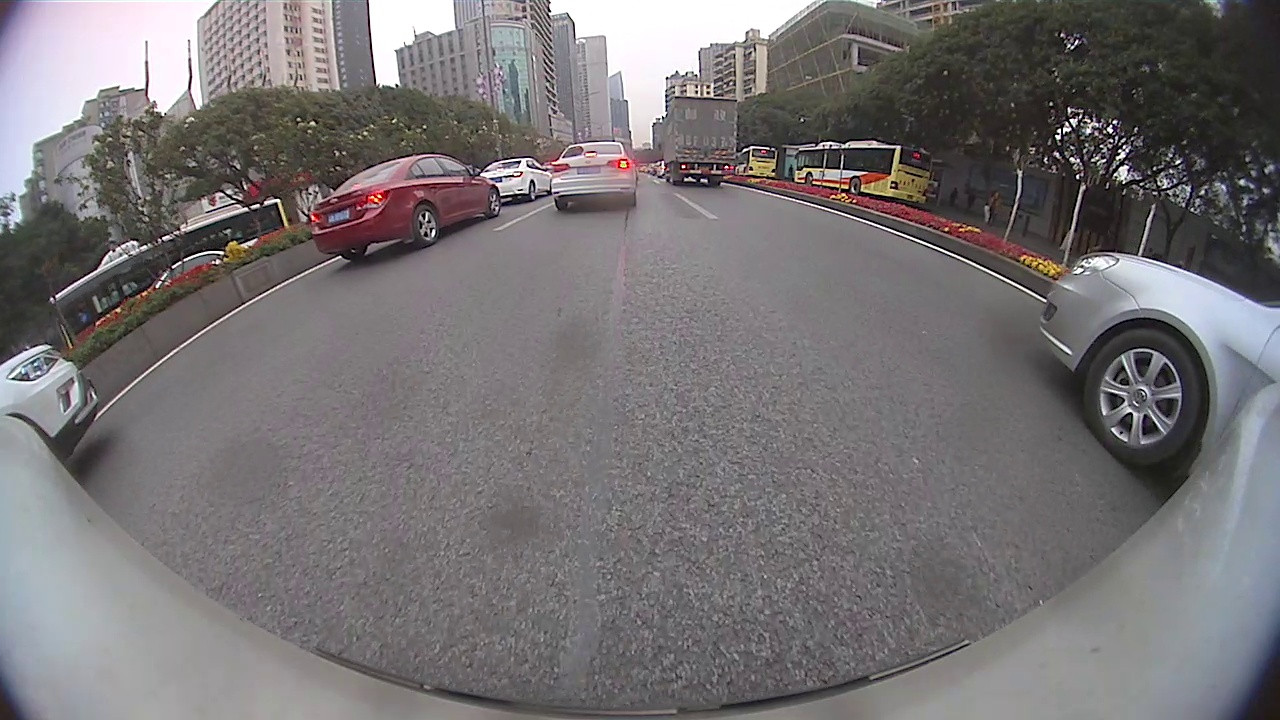bus: (793, 139, 934, 206), (737, 144, 780, 177)
car: (1037, 250, 1278, 468), (52, 198, 290, 348), (310, 155, 502, 262), (0, 346, 99, 460), (552, 141, 637, 214), (160, 239, 261, 284), (480, 157, 552, 206)
front: (1080, 328, 1203, 472), (488, 186, 500, 216), (804, 172, 815, 186)
person: (986, 188, 1000, 223)
rear: (413, 204, 442, 246), (849, 176, 862, 193), (527, 181, 538, 201)
truck: (663, 95, 740, 185)
